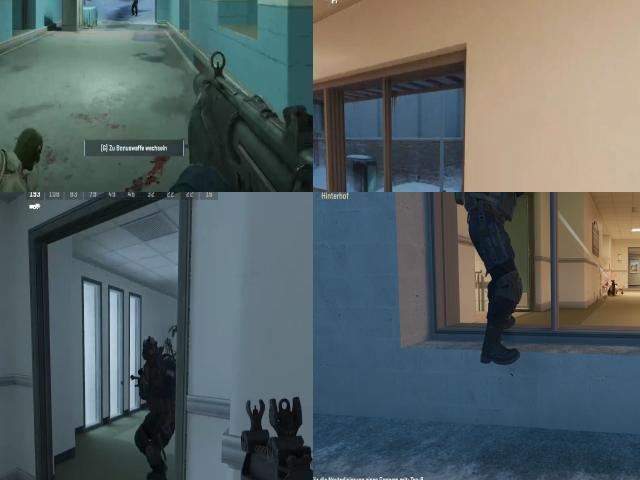CT: (463, 192, 532, 345), (134, 331, 178, 420), (433, 186, 453, 192)
CT-Head: (138, 330, 164, 372), (440, 189, 450, 192)
Dead: (606, 282, 624, 296)
T: (127, 0, 141, 20)
